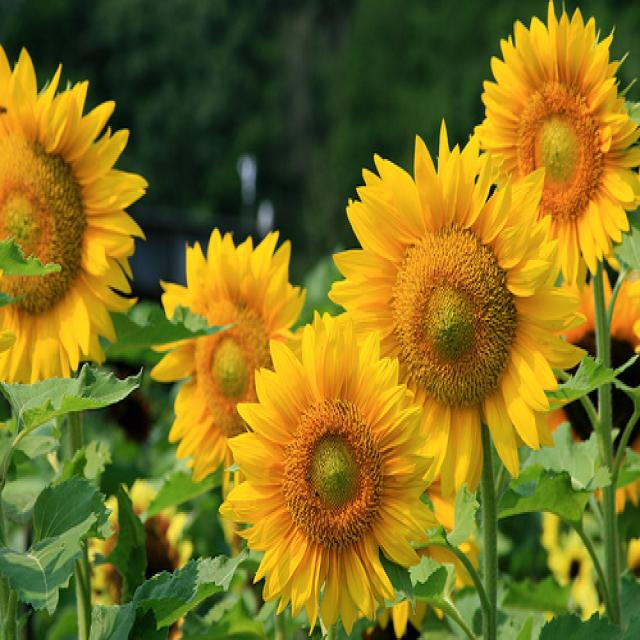sunflower: (327, 110, 589, 492), (223, 306, 442, 632), (0, 40, 150, 392), (476, 0, 640, 281), (148, 220, 308, 488)
